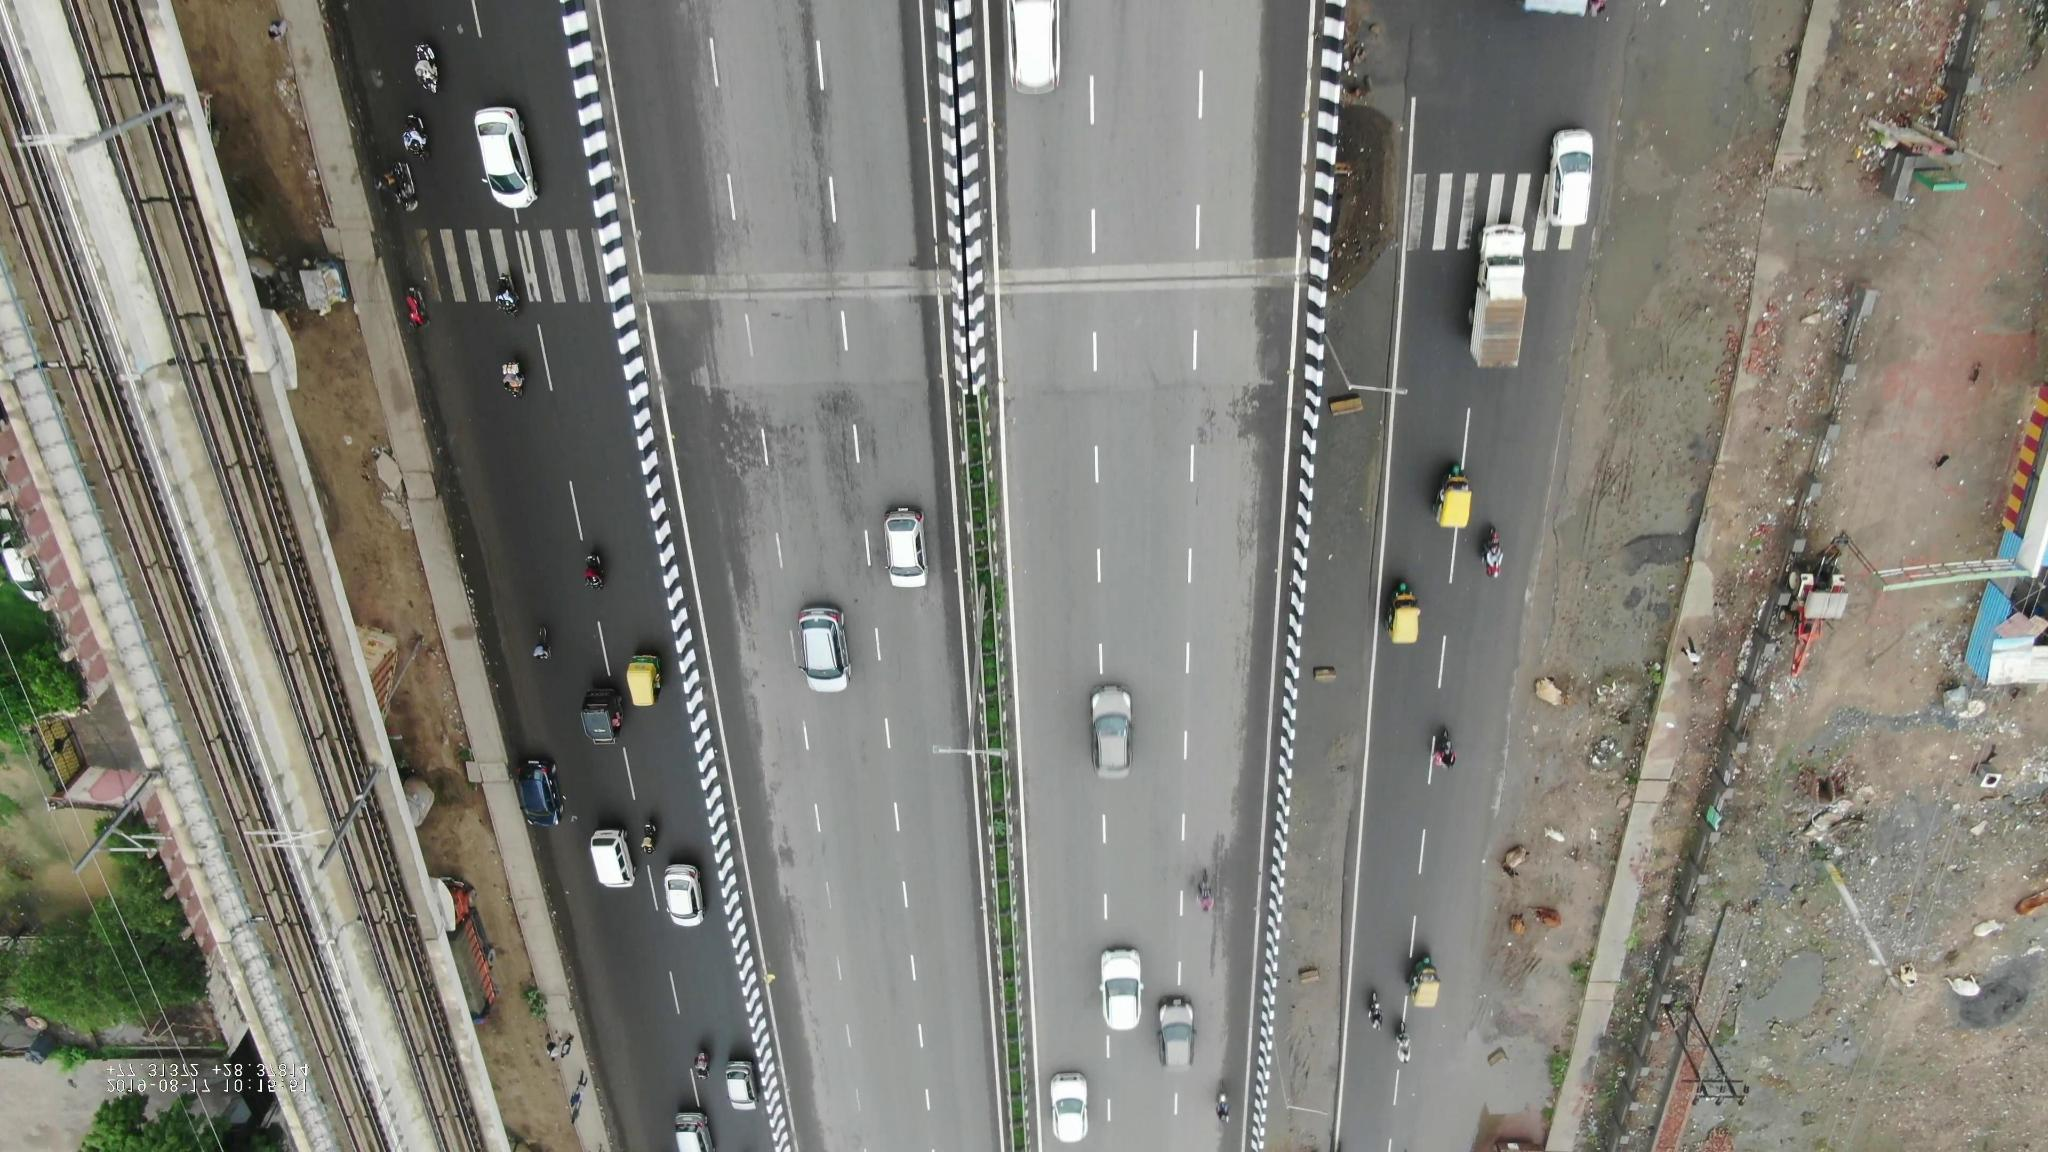Muddy_road: (1544, 359, 1699, 610), (1483, 826, 1609, 1024), (1539, 615, 1647, 821)
Ravelling: (765, 11, 865, 228), (813, 409, 871, 511), (1193, 826, 1234, 966)
Waterlogging: (1584, 20, 1748, 309)
